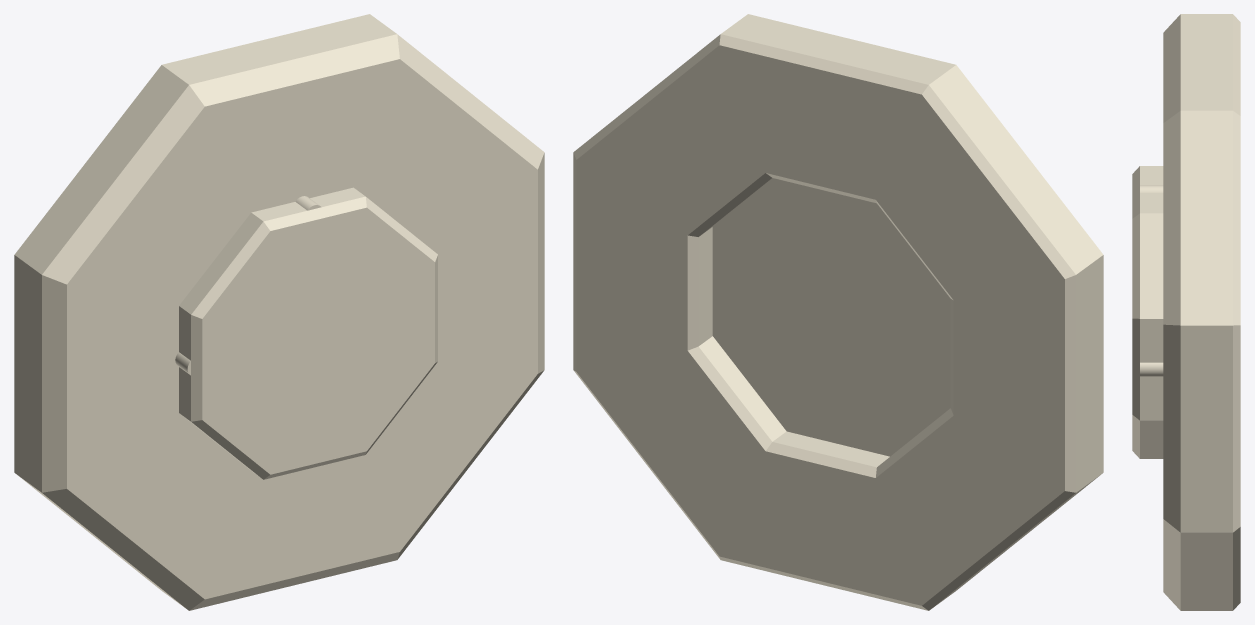
The model's file is t2@ivory.glb.
The picture shows the model from 3 angles, left to right: view 1: azimuth 30°, elevation 25°; view 2: azimuth 150°, elevation 25°; view 3: azimuth 270°, elevation 25°; orthographic projection. The views are drawn at different scales.
Parts seen in each view (by area): view 1: geometry_0; view 2: geometry_0; view 3: geometry_0.
Part boxes in pixels (x1,y1,x2,y2): geometry_0: (14, 14, 544, 610); geometry_0: (573, 14, 1103, 610); geometry_0: (1132, 14, 1240, 610).
Bounding box in the file's own units: 28.5 × 28.5 × 5.6.
